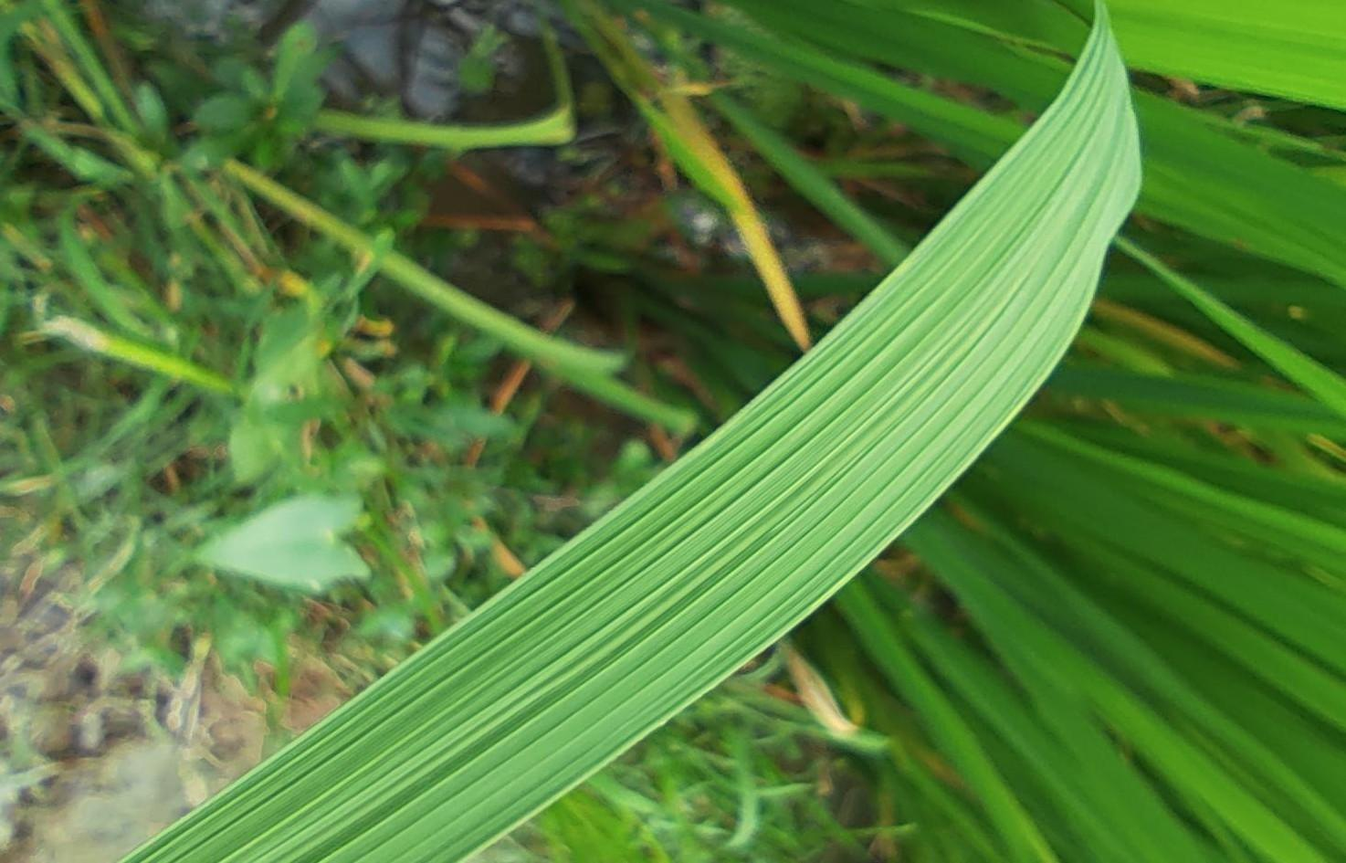Healthy: (119, 0, 1141, 862)
